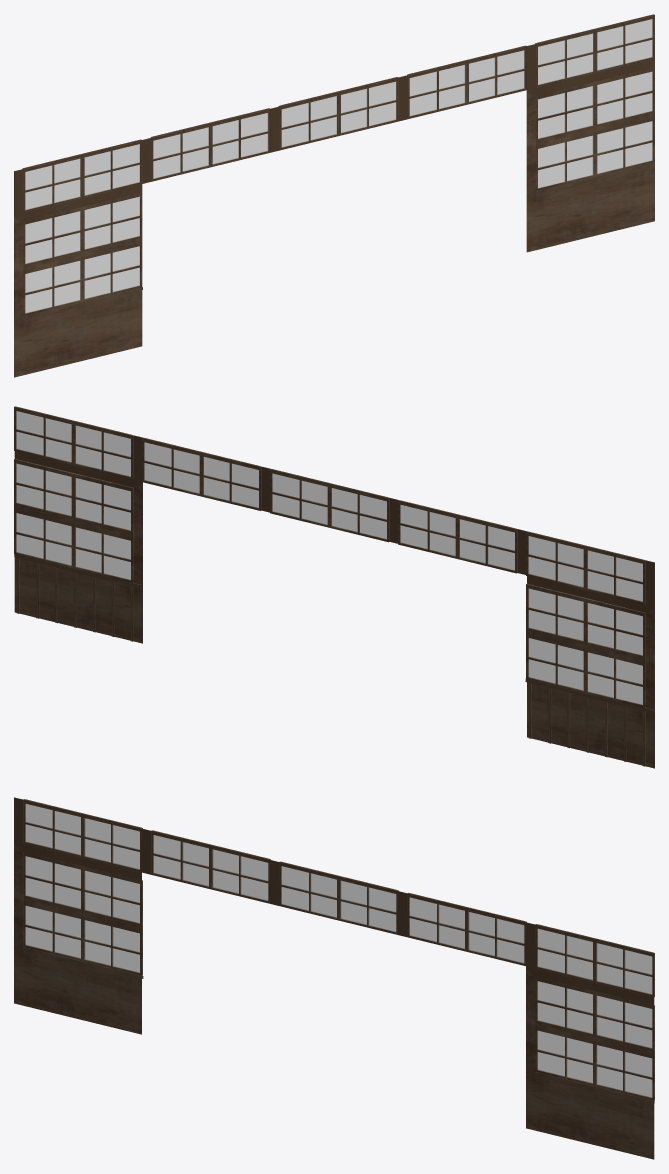
File: wall_module_with_door.fbx
The picture shows the model from 3 angles, top to bottom: view 1: azimuth 30°, elevation 25°; view 2: azimuth 150°, elevation 25°; view 3: azimuth 330°, elevation 25°; orthographic projection.
Visible parts, largest first — view 1: Plane.021; view 2: Plane.021; view 3: Plane.021.
Boxes of the visible parts, x1=… form: Plane.021: x1=14, y1=14, x2=654, y2=377; Plane.021: x1=14, y1=406, x2=654, y2=768; Plane.021: x1=14, y1=797, x2=654, y2=1159.
Size of the model in its own units: 1825 by 561 by 4.52.
